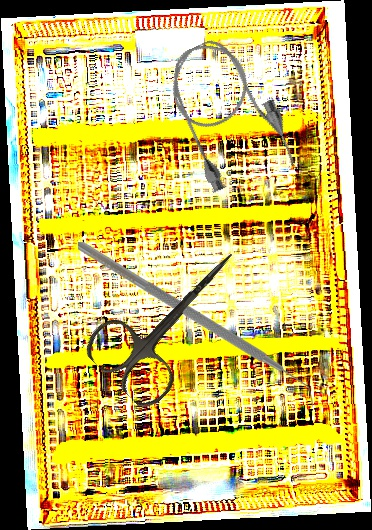Cannula: (153, 25, 304, 202)
Chopper: (78, 242, 313, 411)
Iris Scissors: (78, 222, 268, 414)
